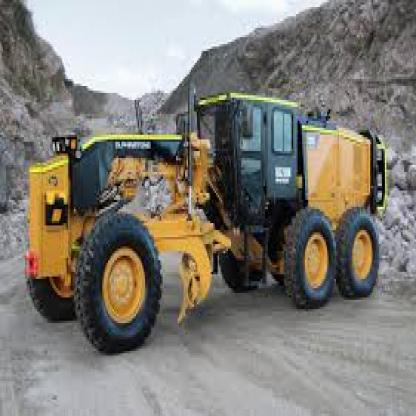bull_dozer/loader/grader: (13, 82, 410, 340)
